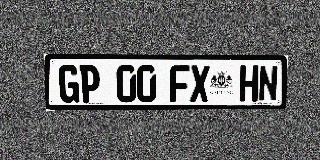0: (116, 65, 136, 102), (136, 65, 156, 102)
F: (170, 65, 189, 102)
G: (58, 65, 79, 103)
H: (239, 66, 259, 102)
N: (258, 66, 278, 102)
P: (80, 65, 100, 103)
X: (190, 65, 209, 102)
